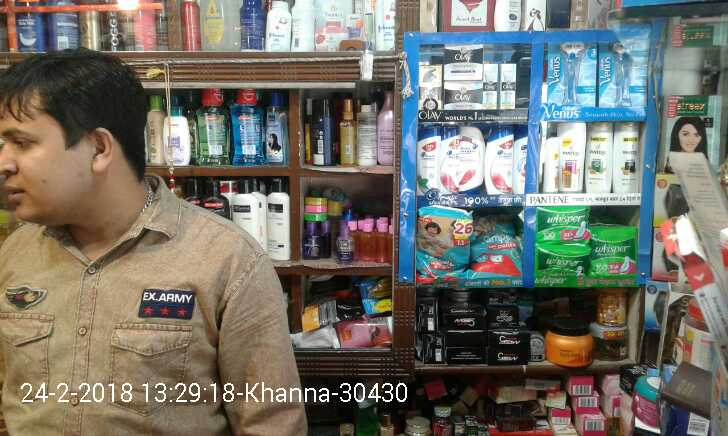venus: (597, 38, 645, 105), (551, 43, 597, 105)
